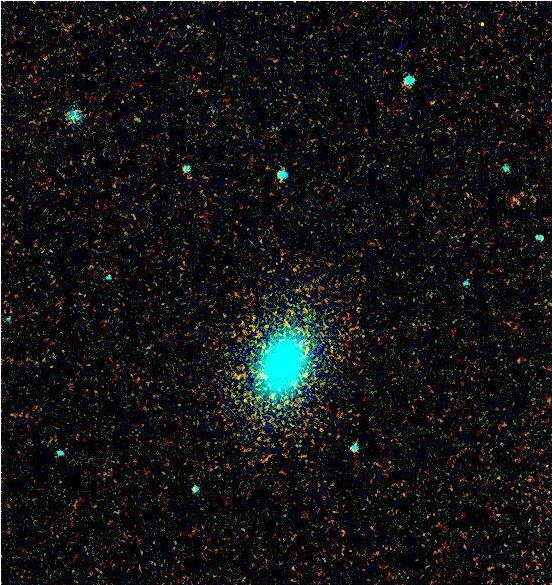star: (256, 383, 286, 413)
